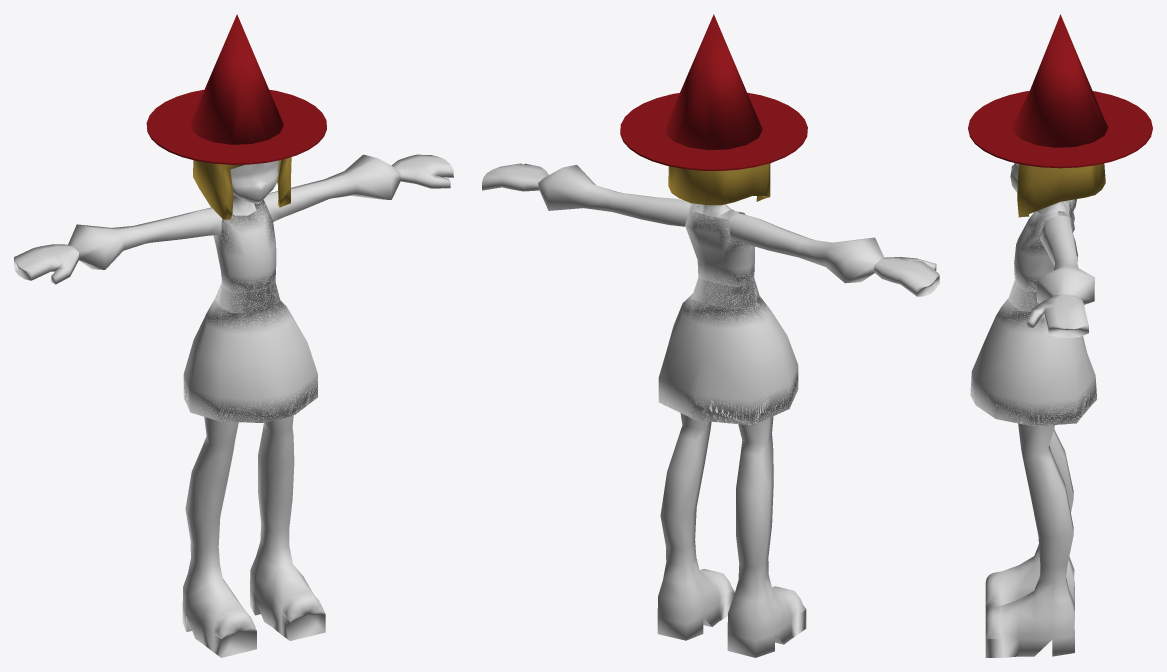
The model's file is bruxinhafogo.fbx.
3 renders of one model, left to right at view 1: azimuth 30°, elevation 25°; view 2: azimuth 150°, elevation 25°; view 3: azimuth 270°, elevation 25°, orthographic. The views are drawn at different scales.
Visible parts, largest first — view 1: KeyframeChef_LowPoly_Base, KeyframeChef_LowPoly_Base.003, KeyframeChef_LowPoly_Base.002, Cylinder, Cone, KeyframeChef_LowPoly_Base.001, Plane; view 2: KeyframeChef_LowPoly_Base, KeyframeChef_LowPoly_Base.003, KeyframeChef_LowPoly_Base.002, Cylinder, Cone, KeyframeChef_LowPoly_Base.001, Plane; view 3: KeyframeChef_LowPoly_Base, KeyframeChef_LowPoly_Base.003, Cylinder, Cone, Plane, KeyframeChef_LowPoly_Base.002, KeyframeChef_LowPoly_Base.001.
Boxes of the visible parts, x1,y1,x2,y2 form: KeyframeChef_LowPoly_Base: (14, 154, 453, 657); KeyframeChef_LowPoly_Base.003: (183, 282, 317, 422); KeyframeChef_LowPoly_Base.002: (68, 154, 400, 269); Cylinder: (146, 89, 326, 164); Cone: (191, 14, 283, 144); KeyframeChef_LowPoly_Base.001: (213, 200, 276, 292); Plane: (193, 157, 291, 219); KeyframeChef_LowPoly_Base: (482, 163, 939, 657); KeyframeChef_LowPoly_Base.003: (658, 277, 798, 425); KeyframeChef_LowPoly_Base.002: (538, 165, 883, 283); Cylinder: (620, 92, 807, 170); Cone: (666, 14, 762, 150); KeyframeChef_LowPoly_Base.001: (685, 203, 754, 287); Plane: (668, 163, 770, 205); KeyframeChef_LowPoly_Base: (985, 163, 1088, 657); KeyframeChef_LowPoly_Base.003: (970, 281, 1097, 426); Cylinder: (968, 91, 1152, 168); Cone: (1013, 14, 1108, 147); Plane: (1017, 163, 1105, 217); KeyframeChef_LowPoly_Base.002: (1036, 199, 1094, 304); KeyframeChef_LowPoly_Base.001: (1014, 200, 1074, 291).
Size of the model in its own units: 144 by 195 by 52.84.
4 materials, 3 textured.
